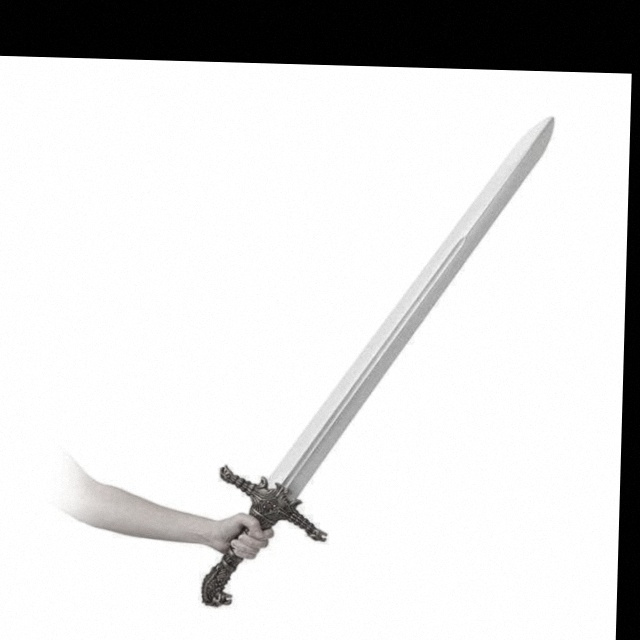Sharp-Object: (185, 96, 571, 618)
